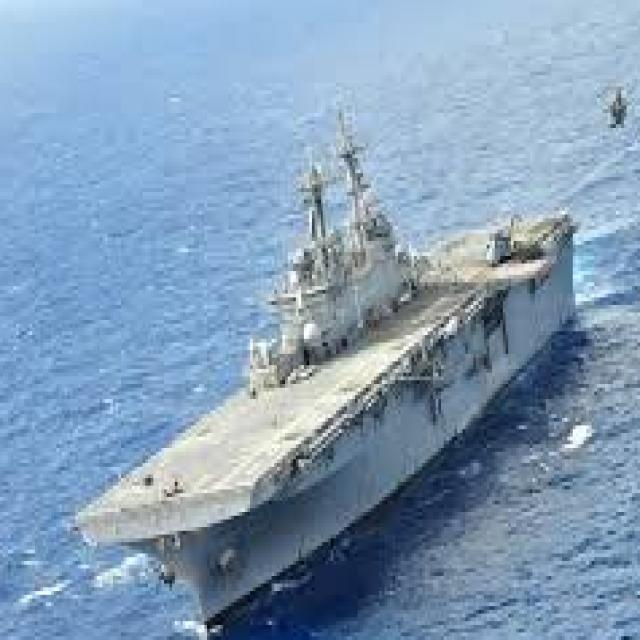navalvessels: (58, 85, 606, 628)
